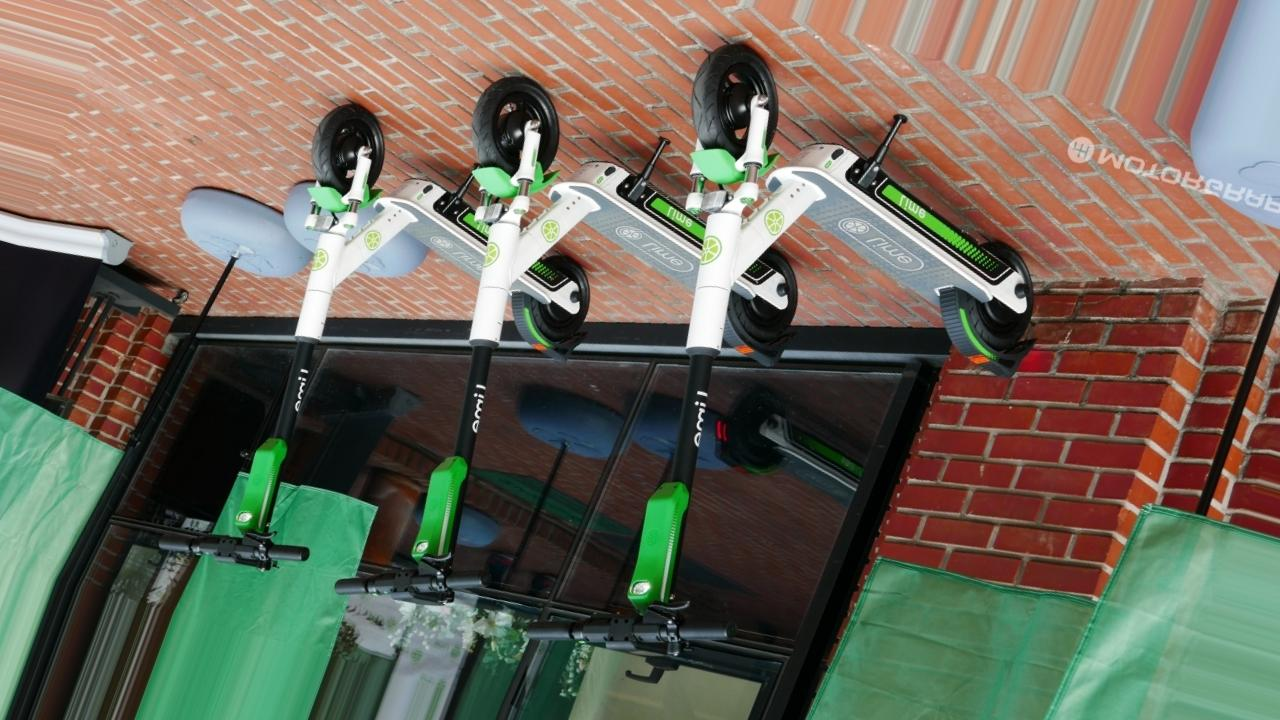scooter: (523, 40, 1036, 660), (334, 72, 800, 615)
